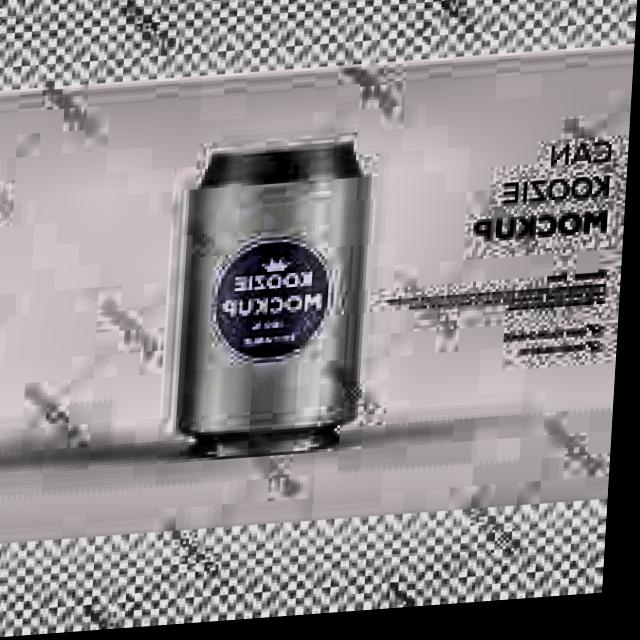can: (171, 134, 380, 478)
